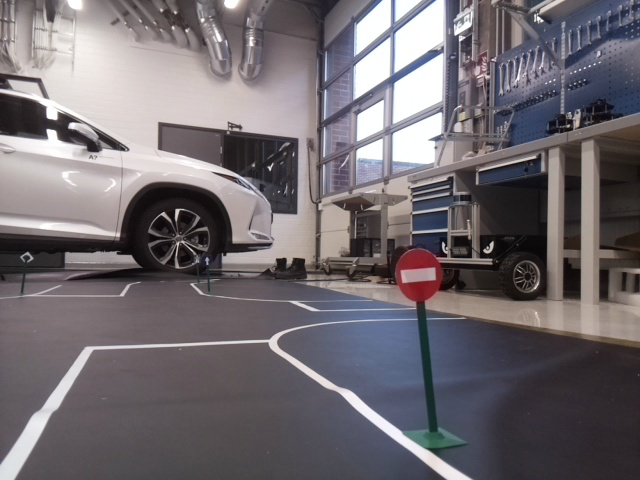NoEntry: (394, 247, 440, 300)
